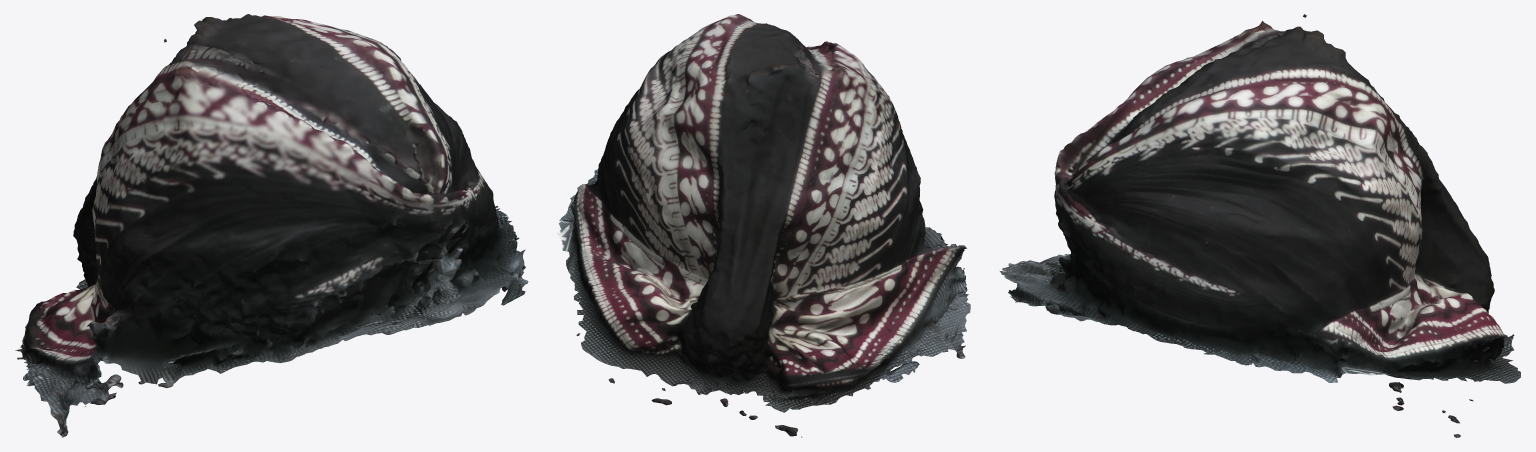
File: blangkon.glb
The picture shows the model from 3 angles, left to right: view 1: azimuth 30°, elevation 25°; view 2: azimuth 150°, elevation 25°; view 3: azimuth 270°, elevation 25°; orthographic projection. The views are drawn at different scales.
Parts seen in each view (by area): view 1: Object_2; view 2: Object_2; view 3: Object_2.
Boxes of the visible parts, left/top/right/bottom form: Object_2: left=15, top=14, right=528, bottom=437; Object_2: left=557, top=14, right=970, bottom=437; Object_2: left=999, top=14, right=1520, bottom=437.
Size of the model in its own units: 16.06 by 13.79 by 16.97.
1 material, 1 textured.
